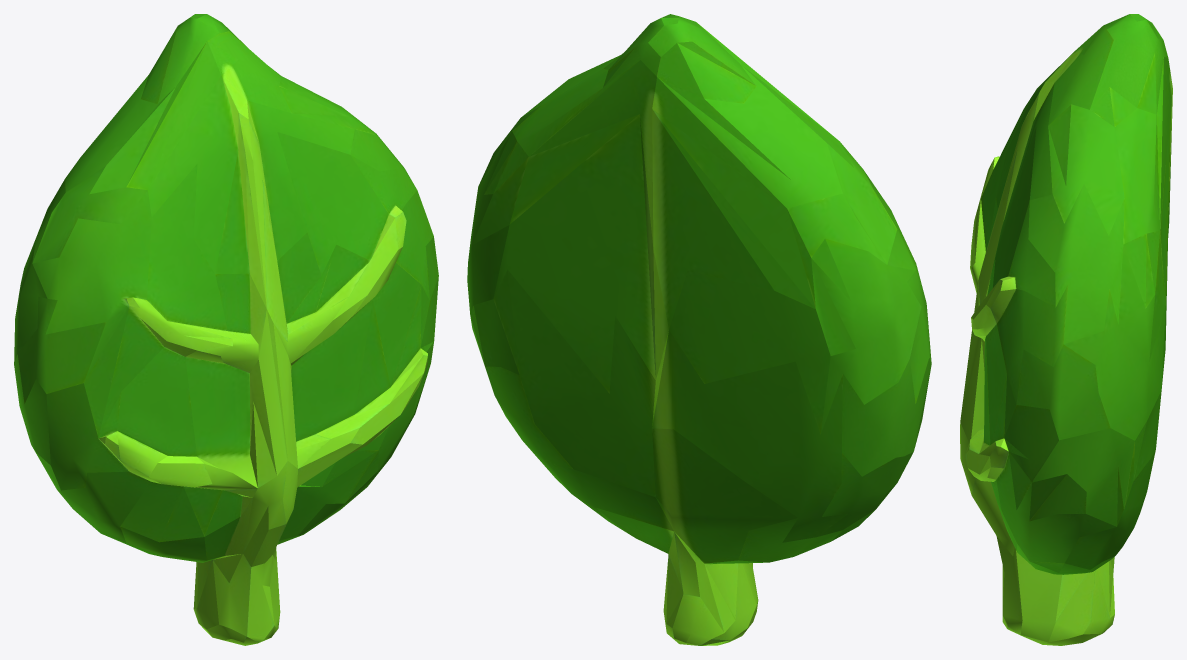
Rendered from leaf.glb.
3 views of the same model, side by side, from view 1: azimuth 30°, elevation 25°; view 2: azimuth 150°, elevation 25°; view 3: azimuth 270°, elevation 25° (orthographic). The views are drawn at different scales.
Bounding box in the file's own units: 1.34 × 1.89 × 0.5878.
Materials: 1 (1 with a texture image).
